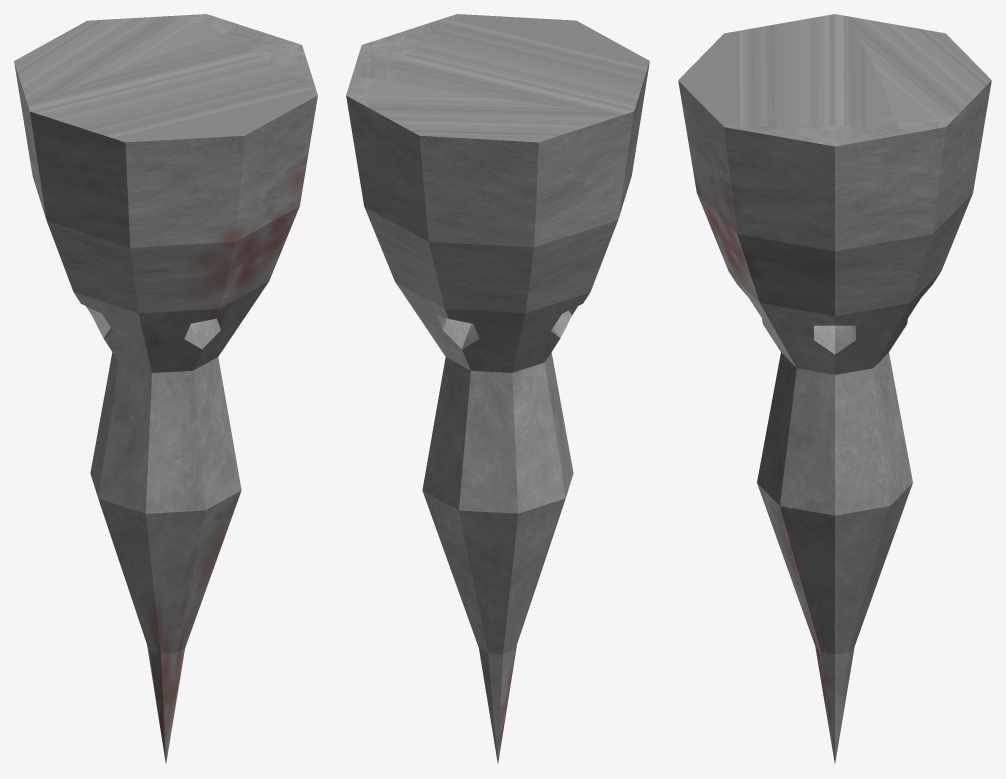
File: 名称未設定.gltf
3 renders of one model, left to right at view 1: azimuth 30°, elevation 25°; view 2: azimuth 150°, elevation 25°; view 3: azimuth 270°, elevation 25°, orthographic.
Visible parts, largest first — view 1: polySurface3260; view 2: polySurface3260; view 3: polySurface3260.
Boxes of the visible parts, left/top/right/bottom form: polySurface3260: left=14, top=14, right=317, bottom=763; polySurface3260: left=346, top=14, right=649, bottom=763; polySurface3260: left=678, top=14, right=991, bottom=763.
Size of the model in its own units: 4.86 by 11.71 by 4.86.
Materials: 1 (1 with a texture image).
